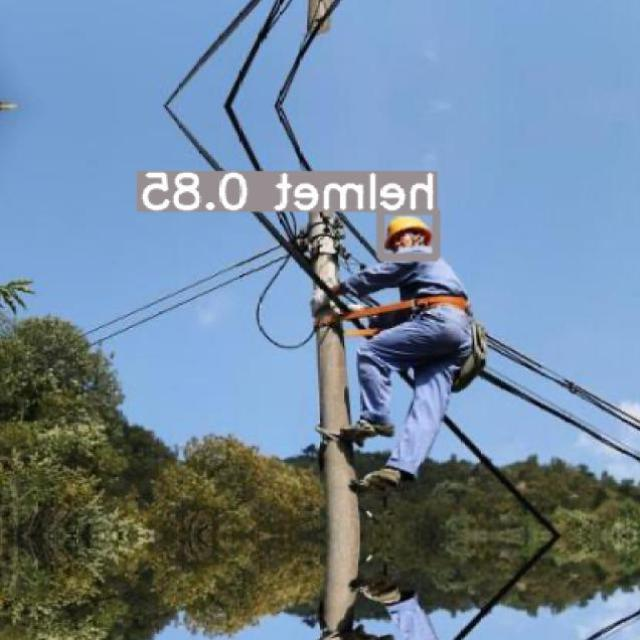helmet: (384, 216, 433, 250)
